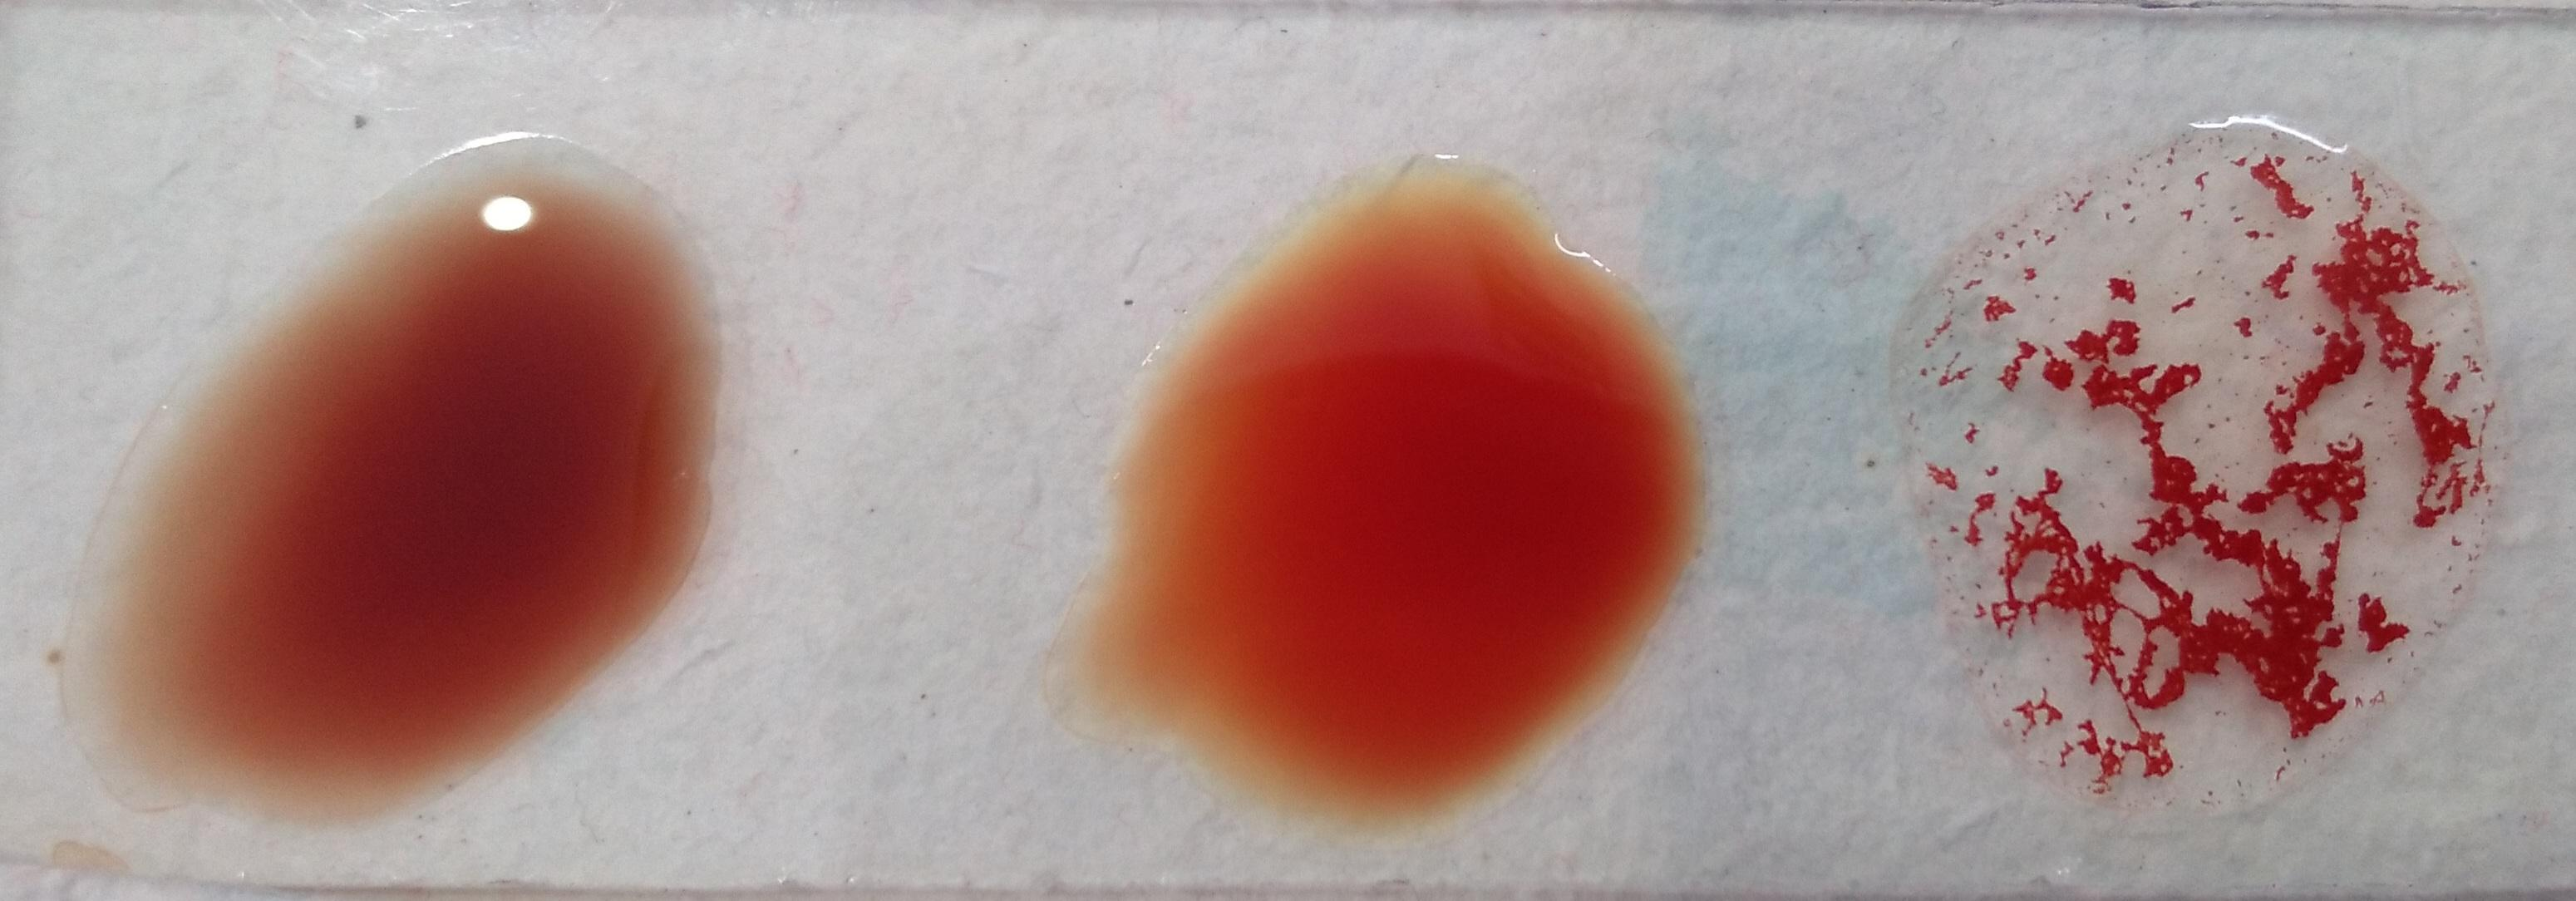D: (1904, 95, 2510, 817)
